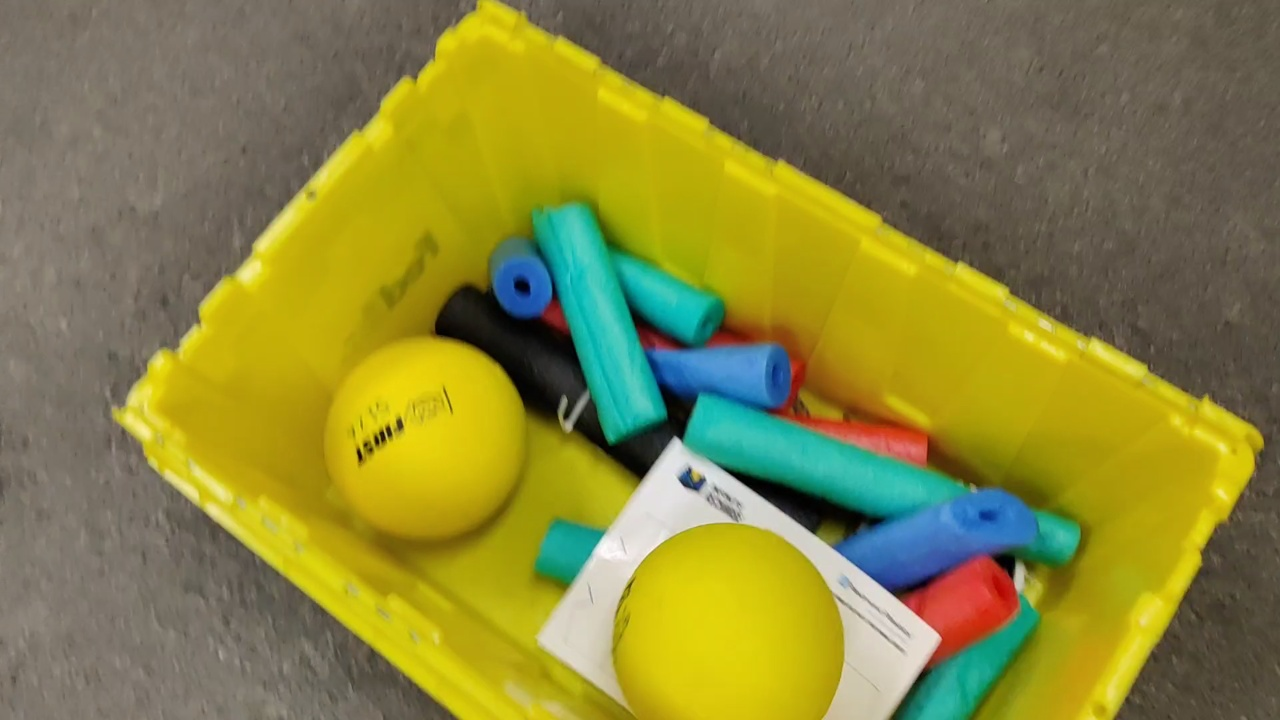Ball: (616, 521, 845, 720), (324, 337, 526, 538)
